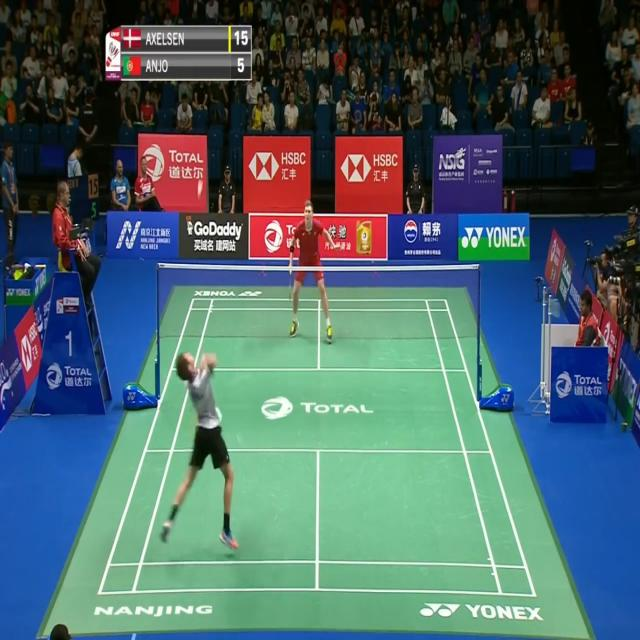Player1: (154, 344, 240, 559)
Player2: (284, 198, 342, 348)
